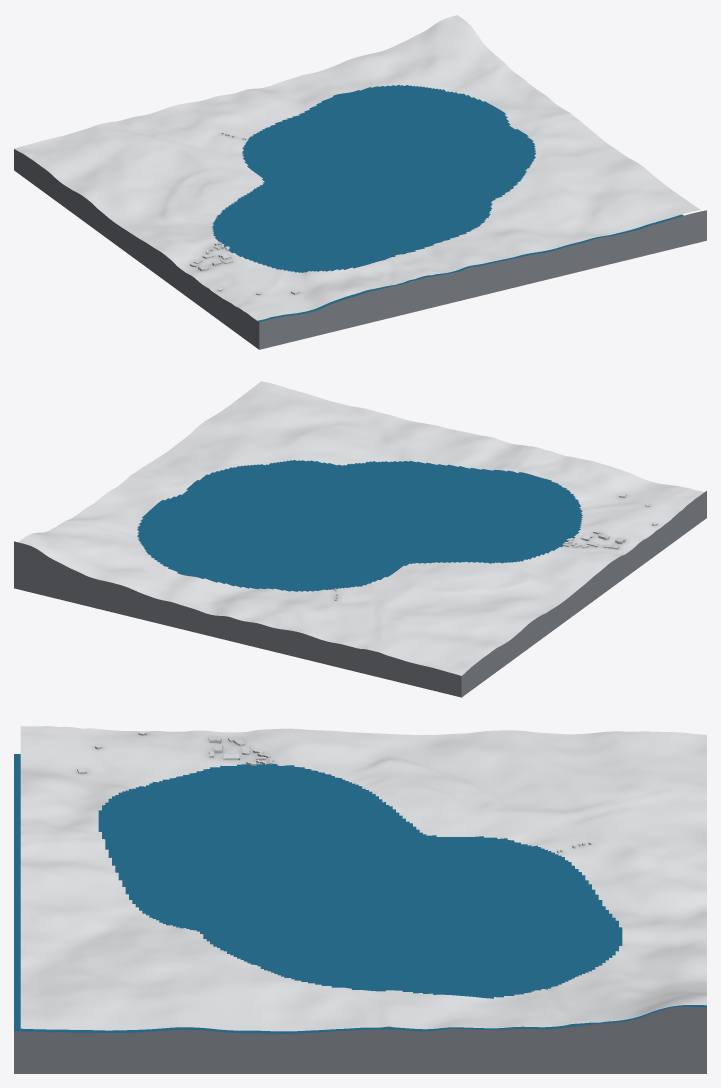
File: far.glb
3 renders of one model, top to bottom at view 1: azimuth 30°, elevation 25°; view 2: azimuth 150°, elevation 25°; view 3: azimuth 270°, elevation 25°, orthographic. The views are drawn at different scales.
Visible parts, largest first — view 1: terrain, water, plinth, building; view 2: terrain, water, plinth, building; view 3: terrain, water, plinth, building.
Boxes of the visible parts, x1,y1,x2,y2 form: terrain: (14,15,700,320); water: (212,85,683,322); plinth: (14,149,706,349); building: (190,132,299,294); terrain: (18,381,704,675); water: (137,460,582,591); plinth: (14,491,706,697); building: (334,493,657,600); terrain: (20,726,706,1031); water: (14,754,706,1033); plinth: (14,1006,706,1073); building: (77,731,591,853).
Size of the model in its own units: 3456 by 351 by 3280.
